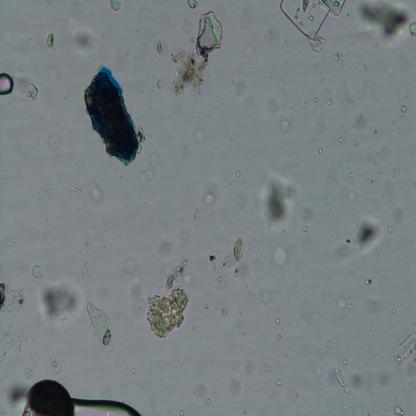Air bubble: (70, 394, 143, 415), (0, 67, 13, 98)
Background material: (168, 10, 222, 98), (145, 252, 191, 337), (331, 214, 385, 268), (255, 170, 302, 231), (356, 0, 411, 46), (37, 280, 87, 325), (321, 353, 366, 399), (21, 378, 75, 415), (84, 302, 118, 356), (265, 314, 287, 387), (206, 239, 245, 280), (125, 262, 146, 316), (0, 277, 27, 315), (390, 331, 416, 368), (0, 327, 25, 361), (139, 150, 160, 186), (314, 90, 332, 131), (230, 76, 253, 103), (268, 245, 292, 269), (74, 27, 97, 51), (333, 184, 359, 203), (65, 13, 84, 37), (352, 107, 370, 132), (36, 182, 52, 210), (189, 124, 209, 146), (226, 372, 244, 394), (390, 202, 406, 226), (264, 92, 280, 116), (307, 34, 327, 53), (390, 81, 410, 100), (87, 182, 104, 204), (189, 379, 208, 398), (302, 303, 319, 324), (7, 387, 24, 408), (160, 232, 172, 259), (47, 131, 62, 152), (202, 191, 218, 210), (260, 289, 275, 309), (340, 74, 356, 92), (81, 226, 94, 247), (25, 81, 39, 100), (337, 296, 353, 311), (153, 76, 166, 93), (50, 357, 62, 374), (331, 52, 348, 64), (387, 186, 399, 202), (190, 208, 202, 223), (244, 45, 255, 61), (126, 363, 140, 375), (280, 116, 291, 131), (31, 263, 42, 278), (408, 18, 416, 38), (110, 1, 124, 12), (244, 376, 254, 391), (142, 8, 152, 23), (46, 32, 55, 48), (186, 0, 199, 10), (348, 166, 357, 180), (202, 300, 211, 314), (327, 177, 336, 191), (24, 367, 35, 378), (393, 406, 406, 415), (233, 166, 242, 179), (399, 104, 407, 117), (336, 135, 346, 145), (354, 140, 361, 152), (205, 394, 212, 406), (178, 406, 186, 416), (364, 278, 374, 286), (158, 41, 164, 54), (317, 144, 324, 155), (248, 61, 256, 70), (221, 307, 228, 317), (125, 49, 132, 59), (314, 96, 320, 104), (304, 227, 309, 231)
Fragment: (81, 68, 139, 166)
